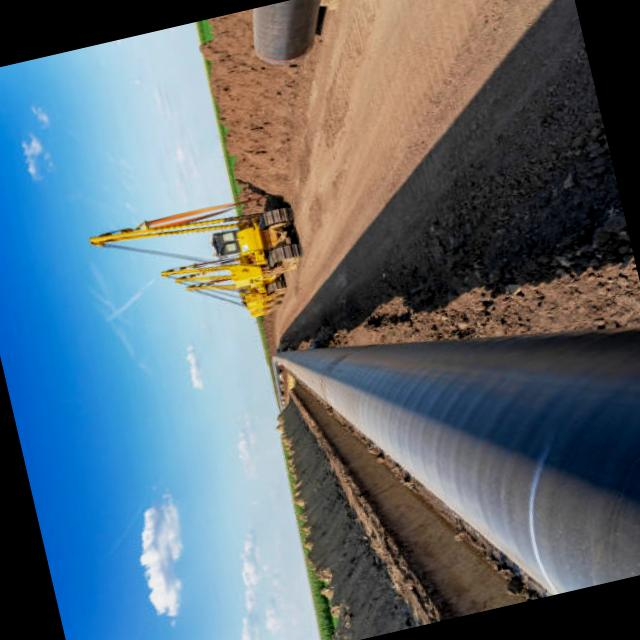gas: (275, 331, 640, 593)
